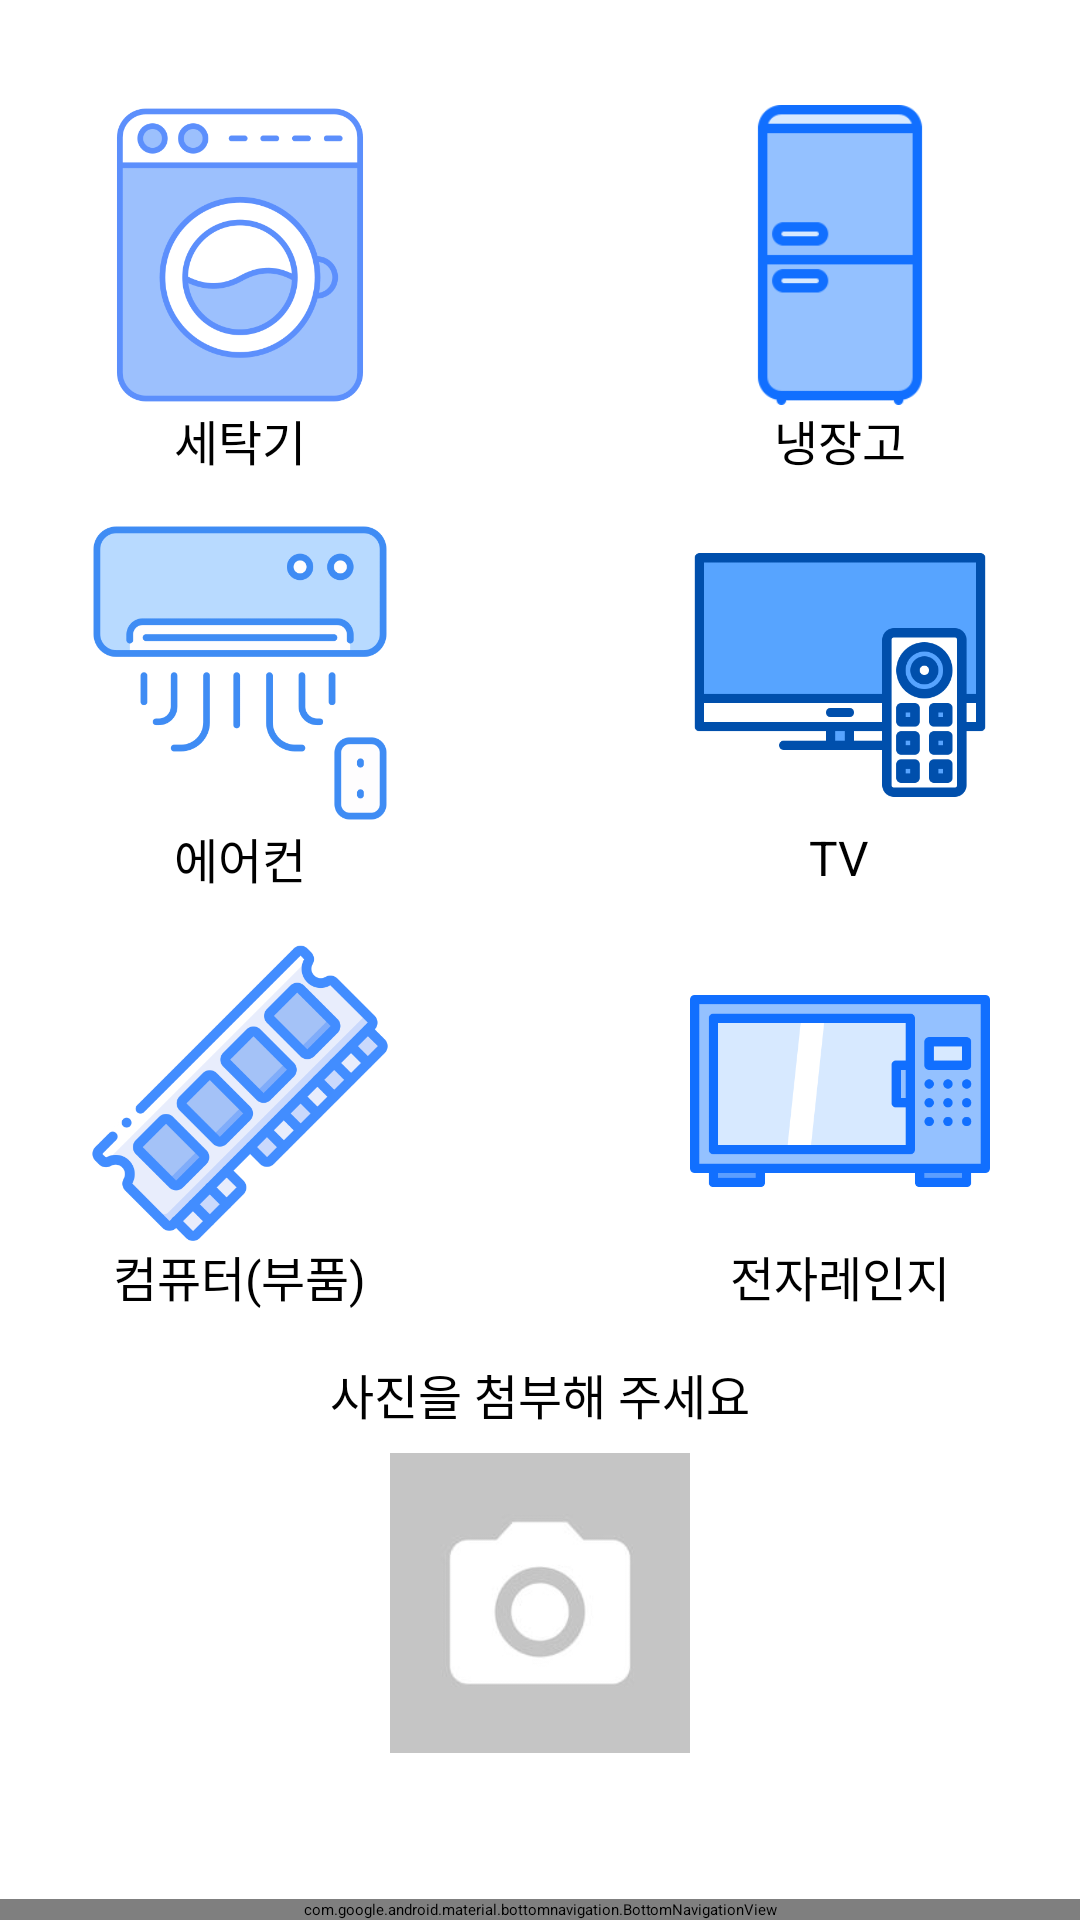

Screen size 1080 x 1920. Icon name, then its box in pixels as region(x1, y1, x2, y2):
ram: region(92, 945, 388, 1241)
